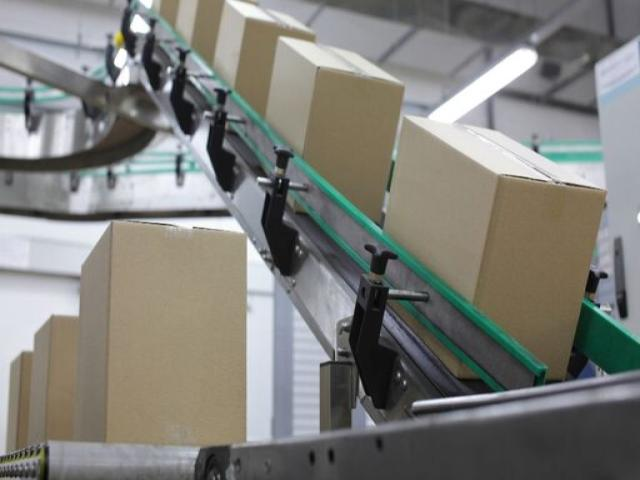conveyor: (132, 0, 640, 400)
